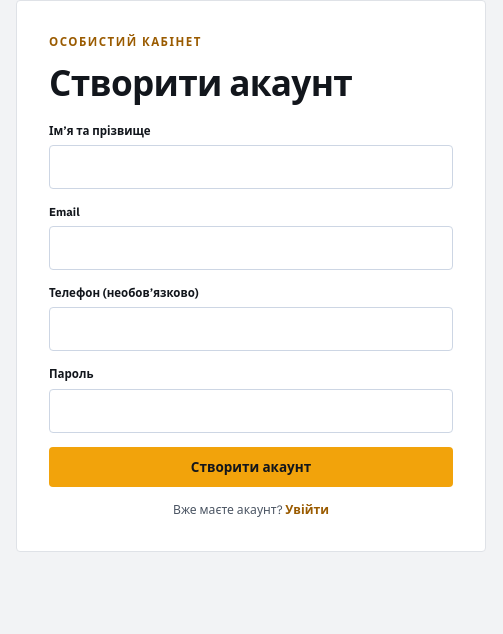
Test: shows a clear message when the email or phone is already registered
Type "Олена Покупець" into the field labelled "Ім’я та прізвище".
click(251, 167); type("Олена Покупець")  # box 49,145 -> 453,189
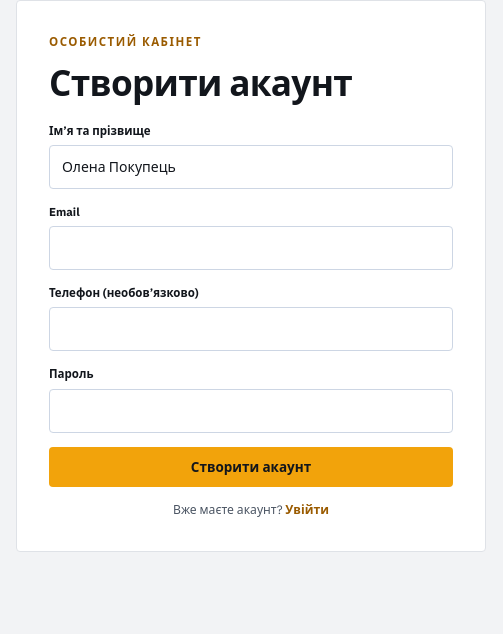
Type "buyer@example.com" into the field labelled "Email".
click(251, 248); type("buyer@example.com")  # box 49,226 -> 453,270
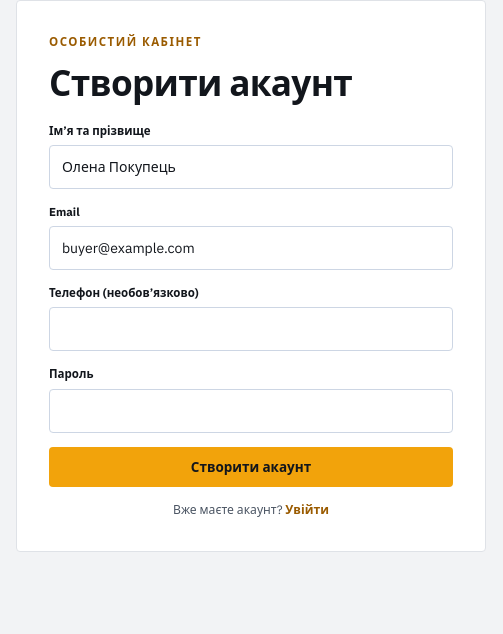
Type "customer-password-123" into the password field labelled "Пароль".
click(251, 411); type("customer-password-123")  # box 49,389 -> 453,433
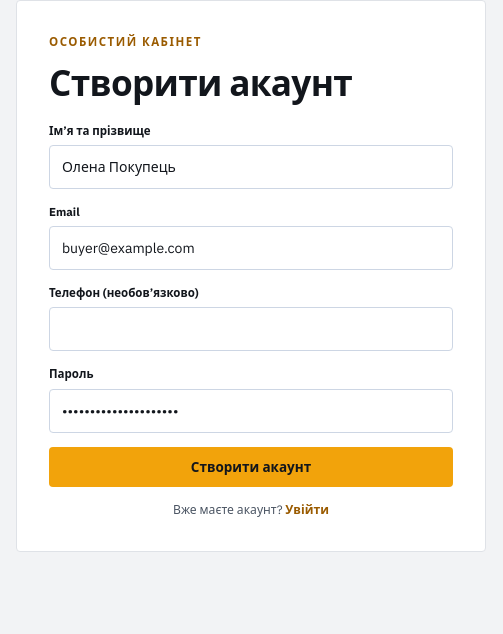
Click the button "Створити акаунт".
click(251, 467)  # box 49,447 -> 453,487
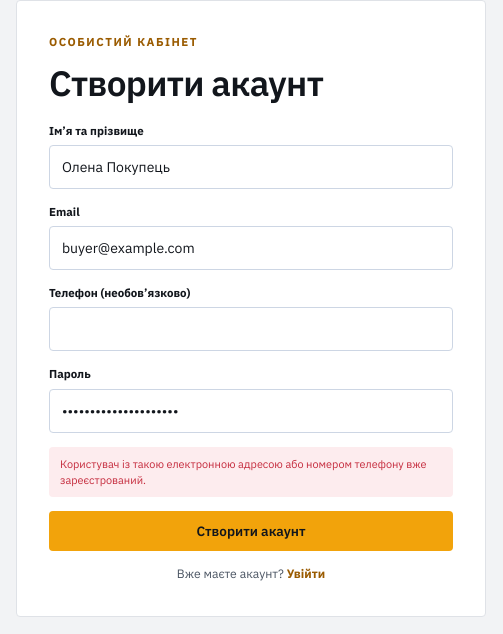
expect the message reads "Користувач із такою електронною адресою або номером телефону вже зареєстрований.": met, box 60,457 -> 426,487
